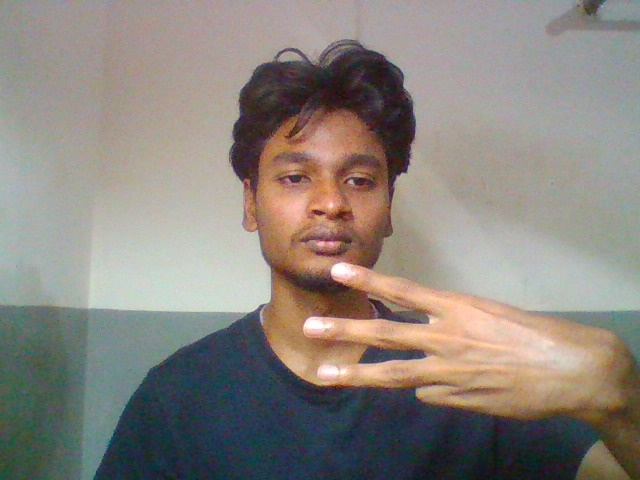E: (295, 245, 640, 425)
